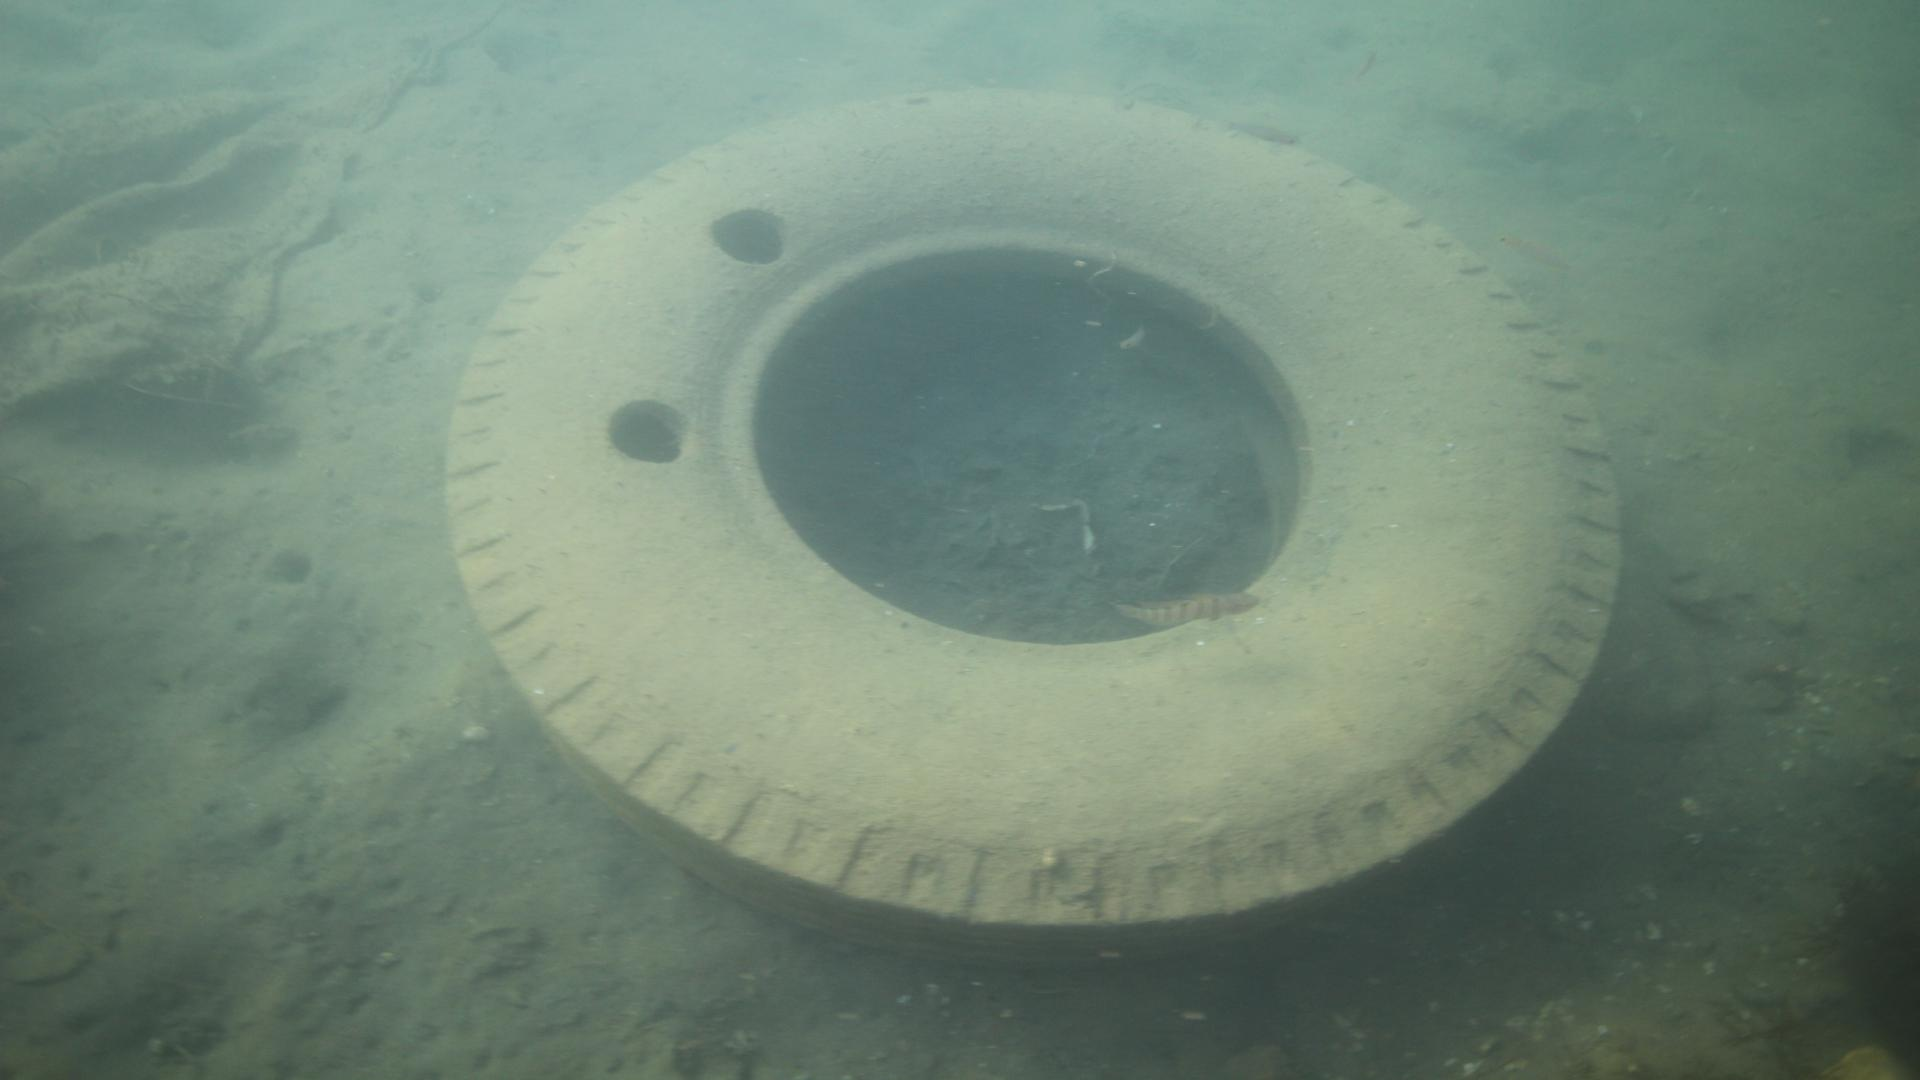tire: (430, 78, 1625, 975)
